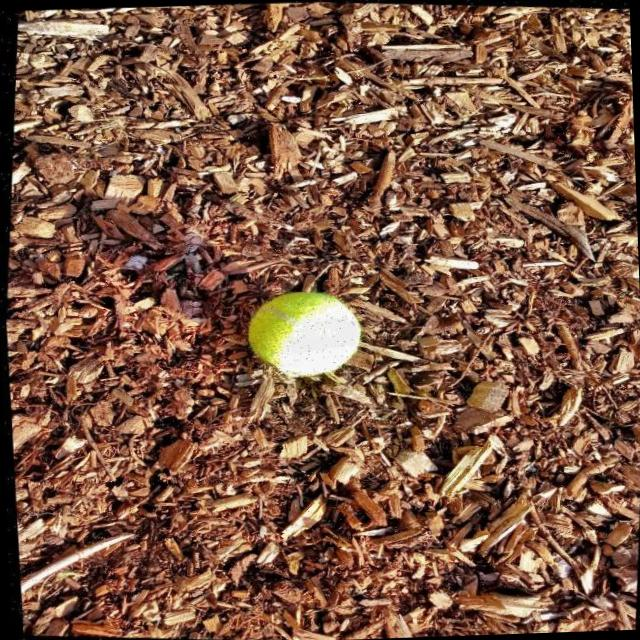Tennis Ball: (241, 286, 376, 385)
